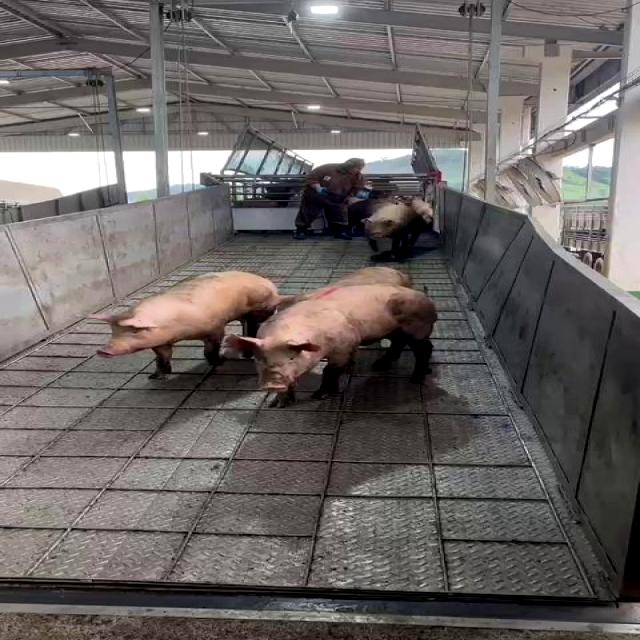pig: (227, 284, 438, 407), (87, 271, 280, 378), (277, 266, 412, 309), (360, 200, 431, 258)
